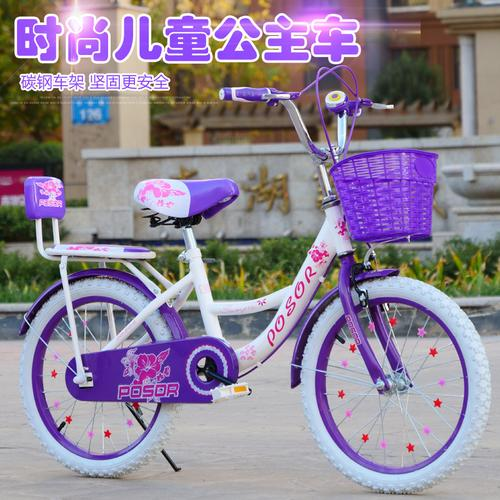单车: (2, 60, 500, 492)
